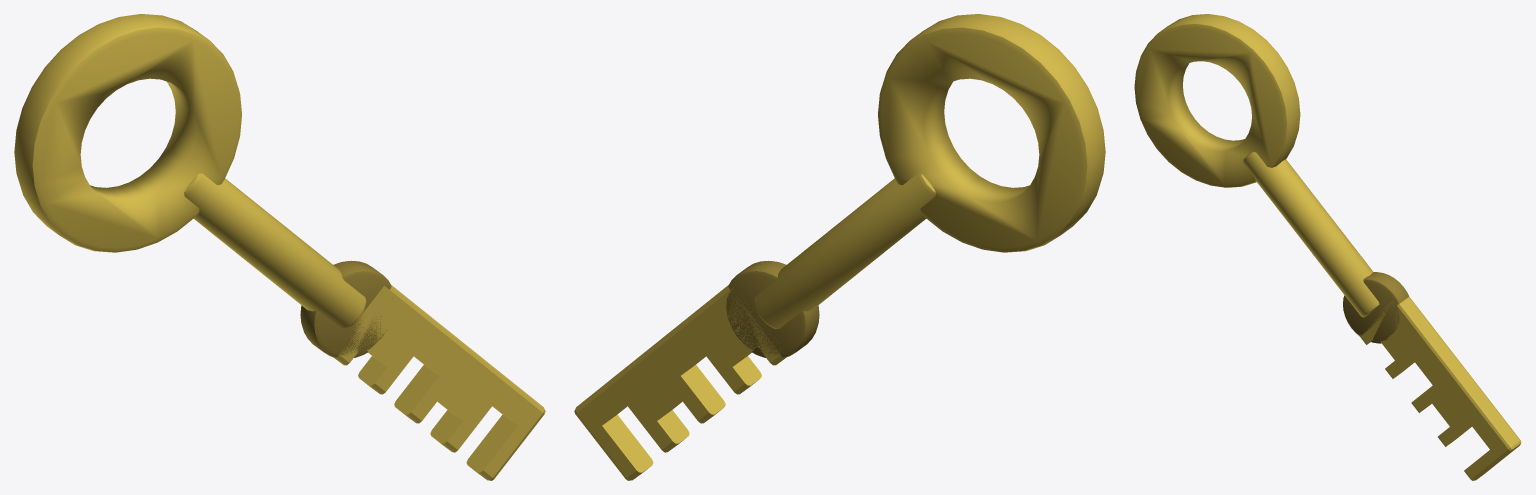
The model's file is key.glb.
3 views of the same model, side by side, from view 1: azimuth 30°, elevation 25°; view 2: azimuth 150°, elevation 25°; view 3: azimuth 330°, elevation 25° (orthographic). The views are drawn at different scales.
Parts seen in each view (by area): view 1: KEY_Bow, KEY_Blade, KEY_Shank, KEY_Collar; view 2: KEY_Bow, KEY_Blade, KEY_Shank, KEY_Collar; view 3: KEY_Bow, KEY_Blade, KEY_Shank, KEY_Collar.
Boxes of the visible parts, bbox=[...] form: KEY_Bow: bbox=[14, 14, 241, 252]; KEY_Blade: bbox=[333, 285, 545, 480]; KEY_Shank: bbox=[184, 173, 366, 328]; KEY_Collar: bbox=[300, 260, 393, 357]; KEY_Bow: bbox=[878, 14, 1105, 252]; KEY_Blade: bbox=[574, 285, 786, 480]; KEY_Shank: bbox=[753, 173, 935, 328]; KEY_Collar: bbox=[726, 260, 819, 357]; KEY_Bow: bbox=[1134, 14, 1300, 187]; KEY_Blade: bbox=[1359, 296, 1521, 480]; KEY_Shank: bbox=[1243, 152, 1379, 317]; KEY_Collar: bbox=[1343, 272, 1408, 343].
Bounding box in the file's own units: 0.2331 × 0.2331 × 0.02.
